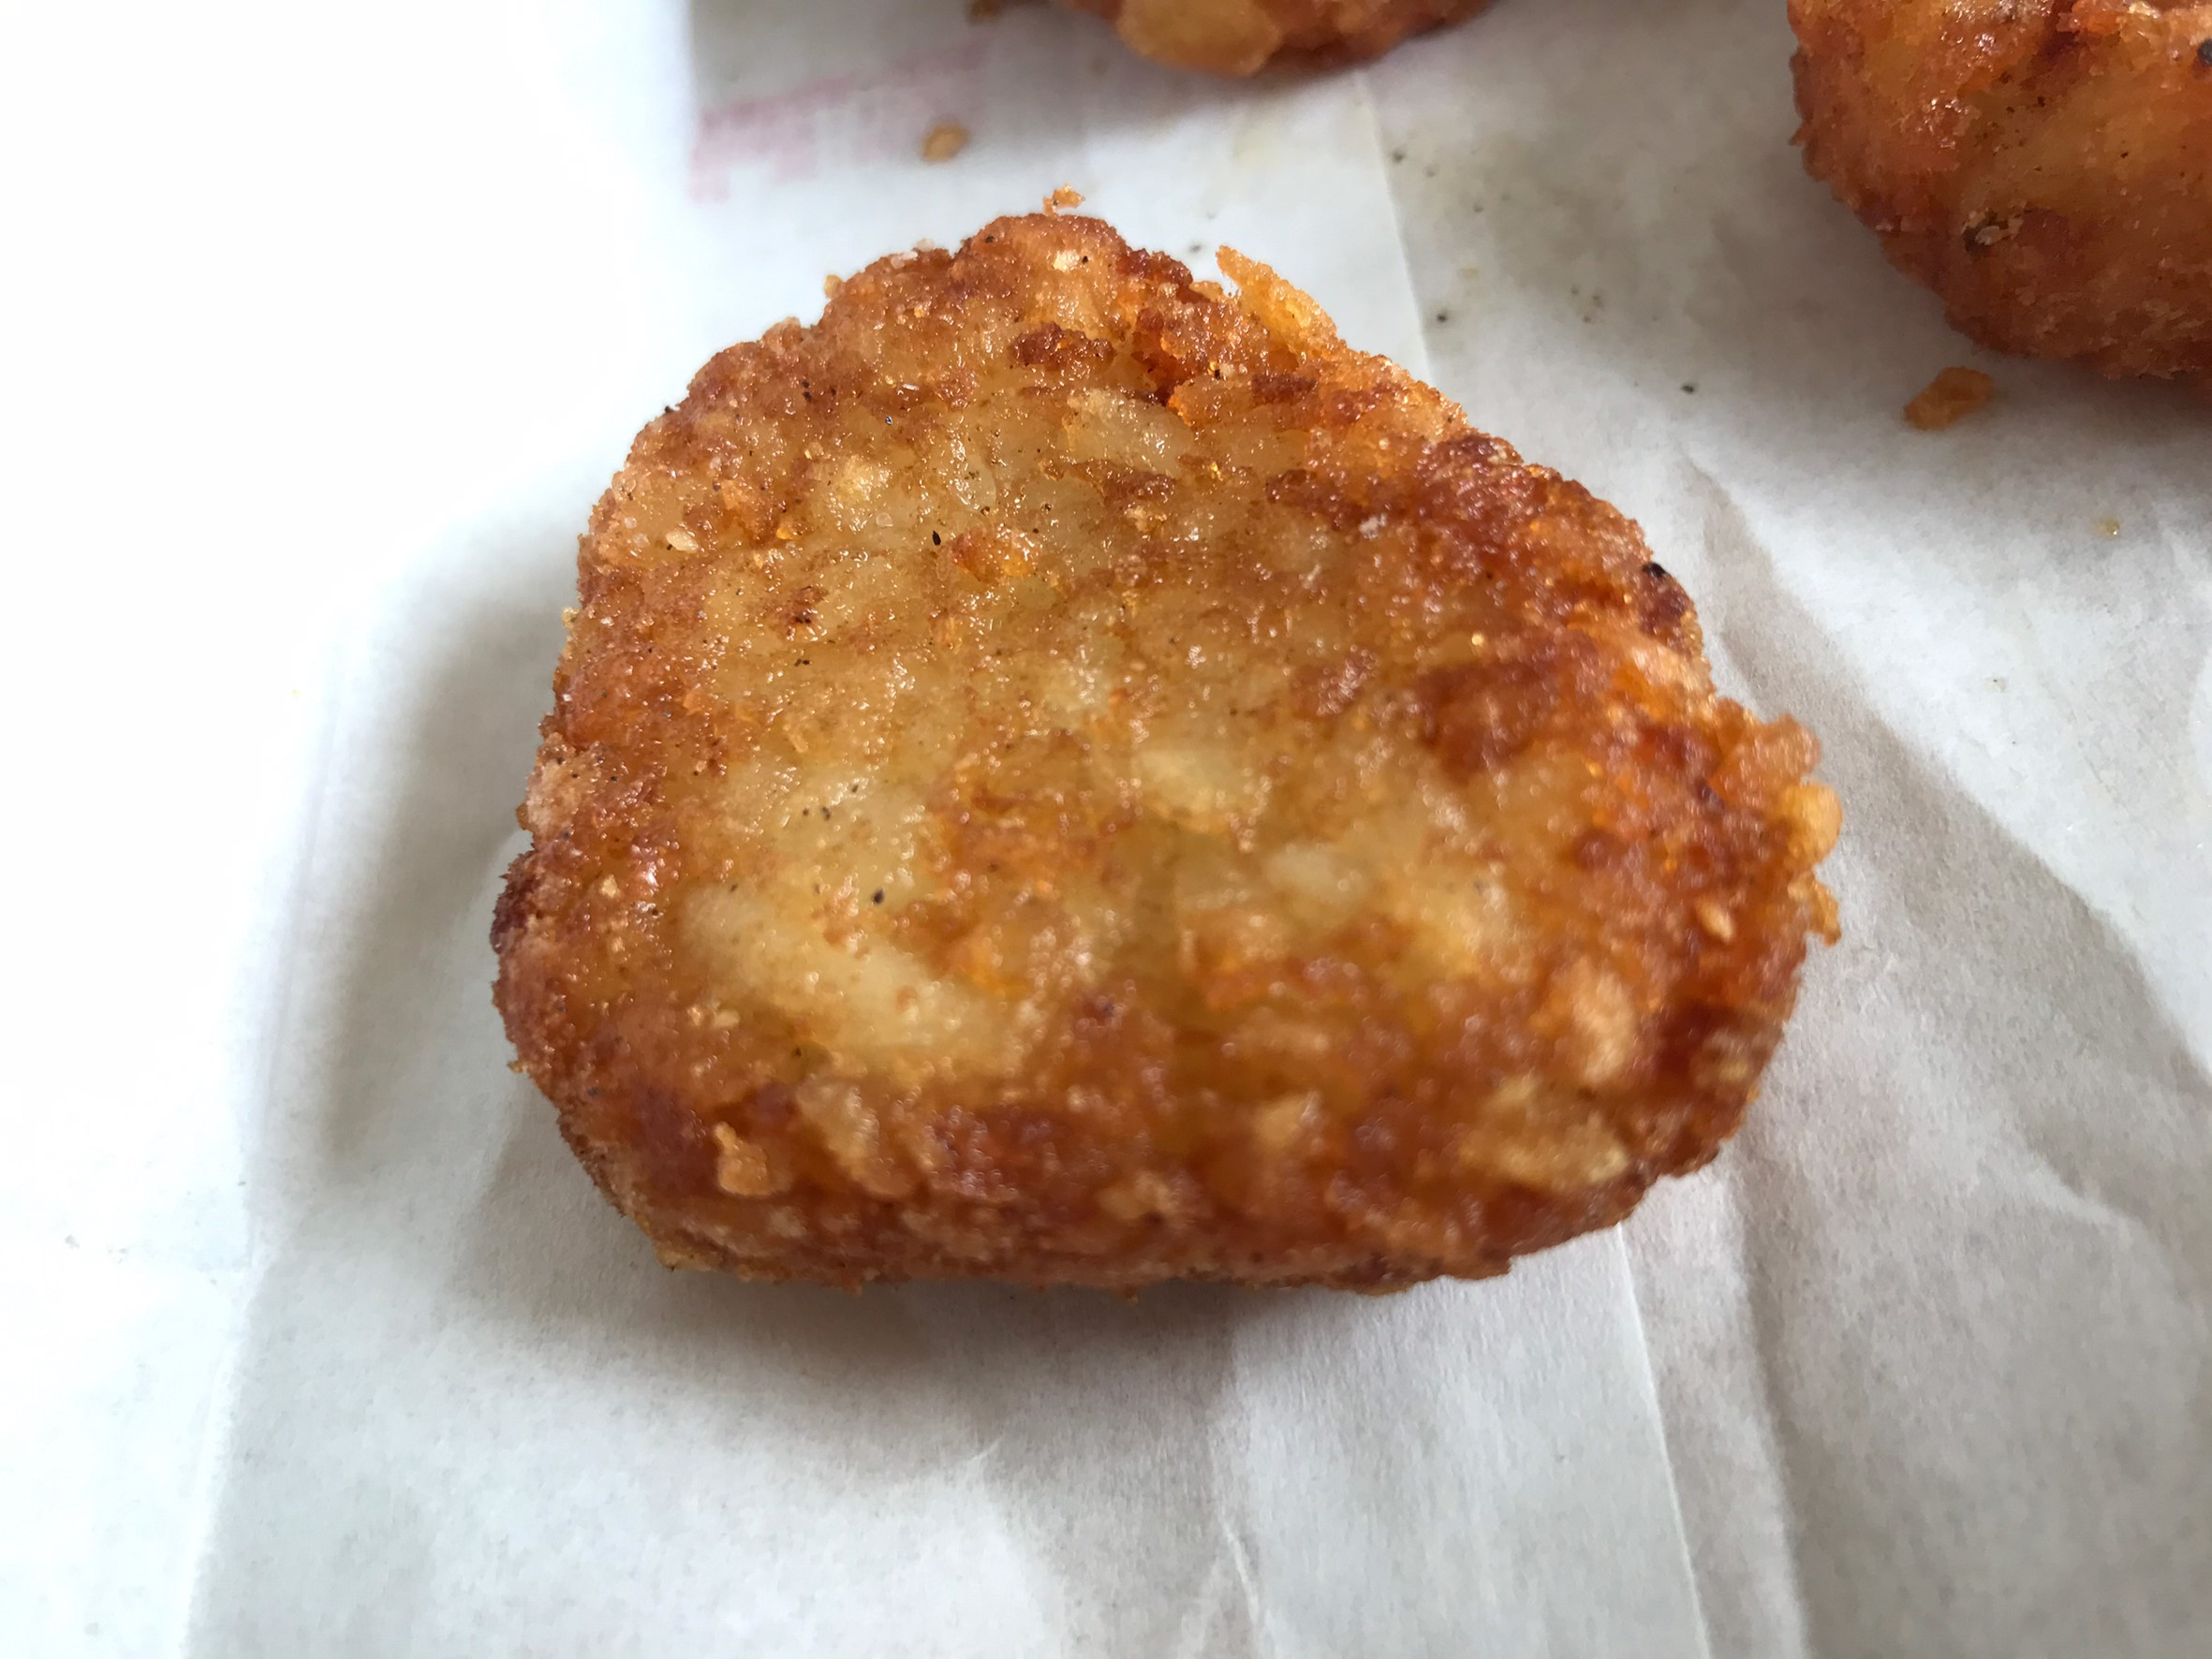triangle_hash_brown: (469, 188, 1855, 1316)
